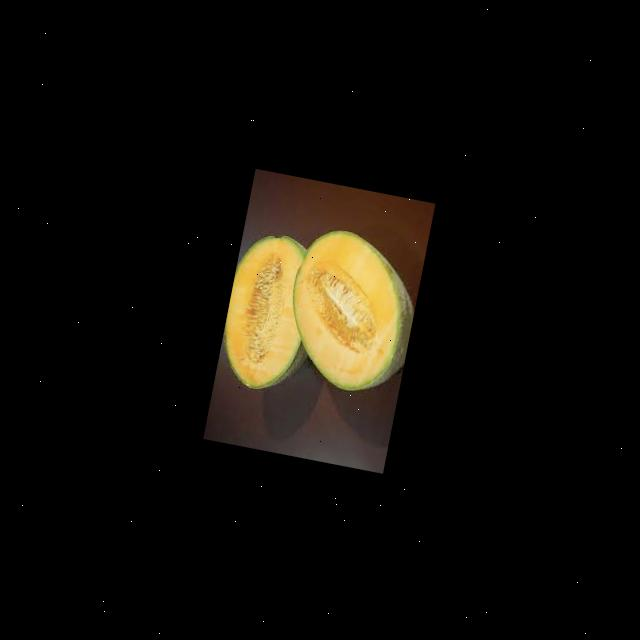Hami Melon: (275, 221, 428, 399), (215, 226, 320, 395)
